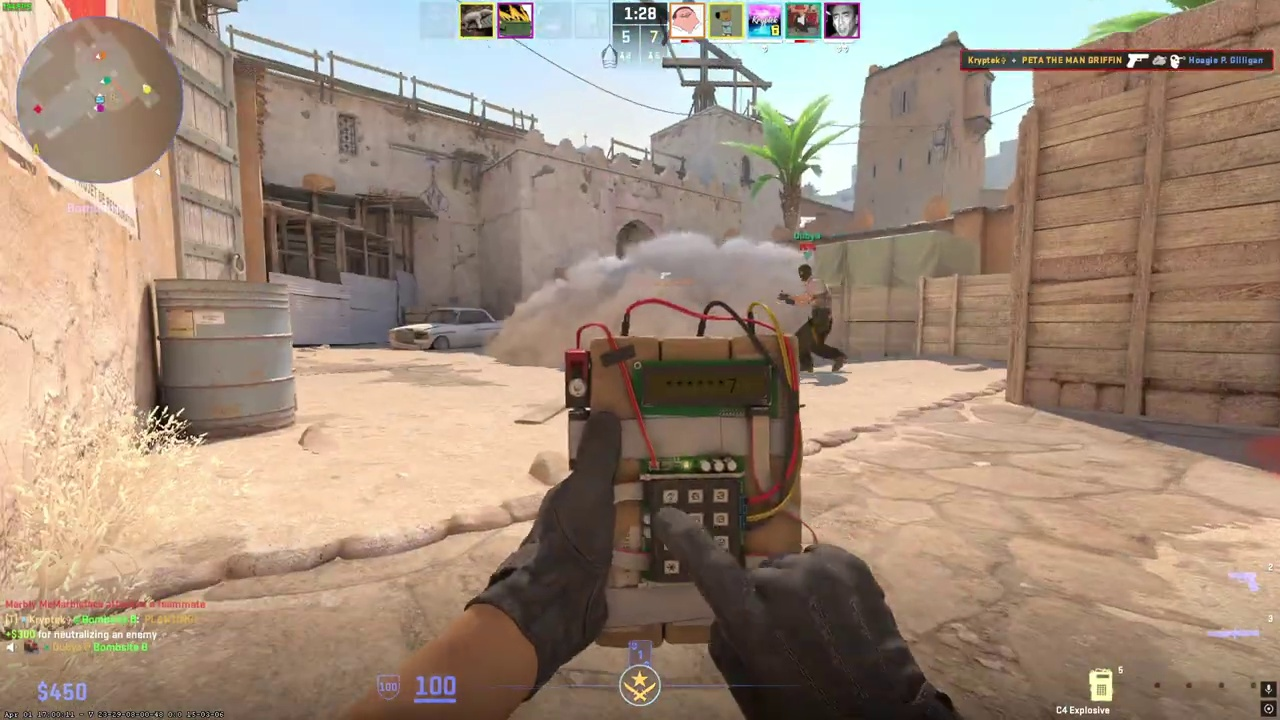Terrorist: (788, 264, 845, 373)
